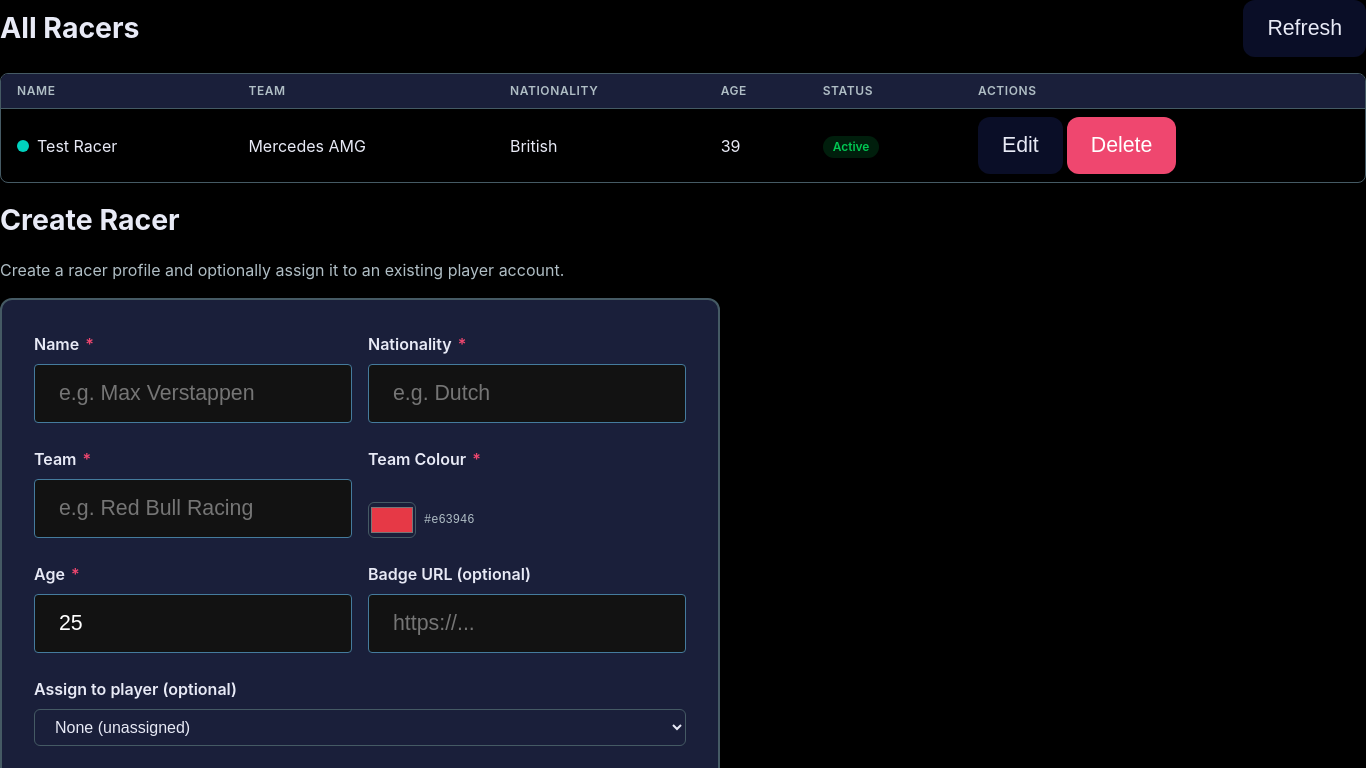
Scenario: RacerManagementTab › Delete racer › opens the delete confirmation modal with the racer's name
This screenshot has width=1366, height=768.
Click the button "Delete". click: (1122, 146)
box: [1067, 117, 1176, 174]
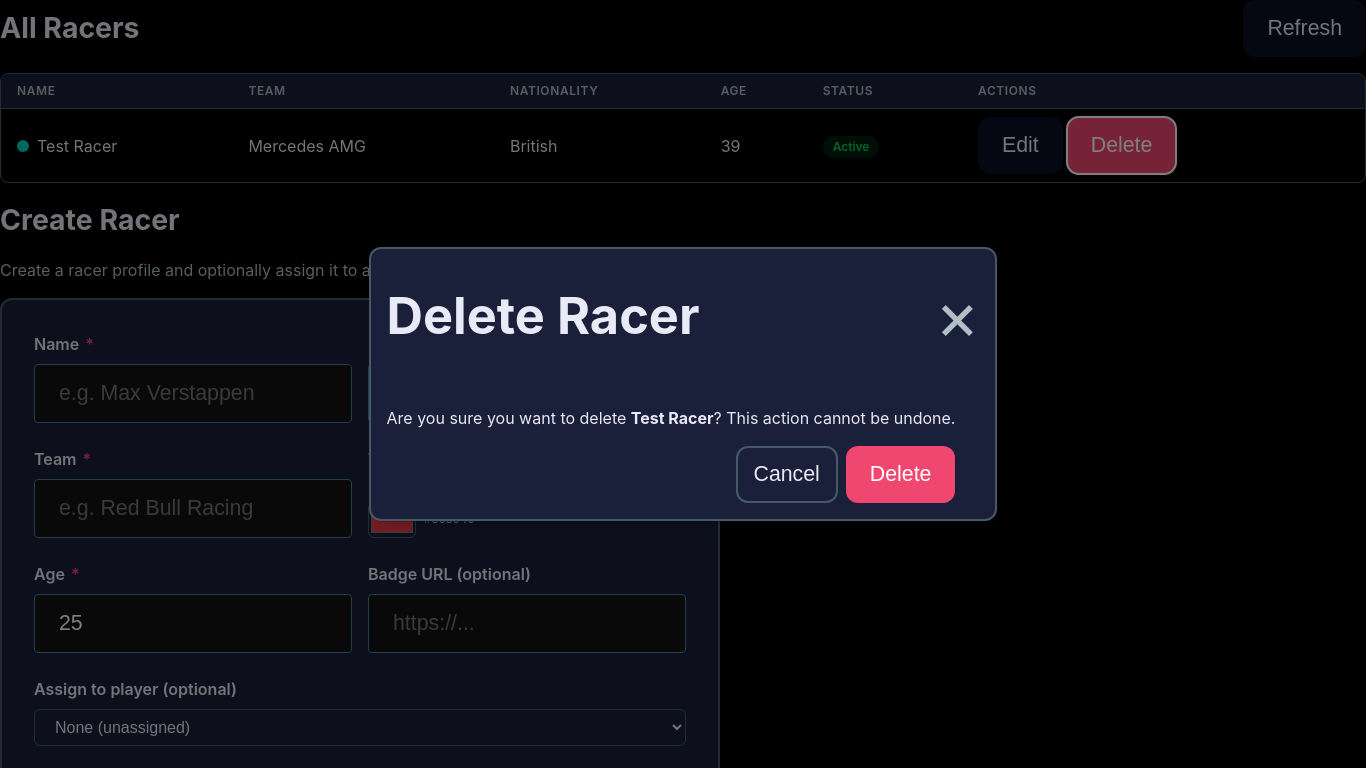
Now the heading "Delete Racer" is shown, box [386, 278, 700, 353]
Now the text "This action cannot be undone." is shown, box [714, 408, 955, 428]
Now the text "Test Racer" is shown, box [631, 408, 714, 428]
